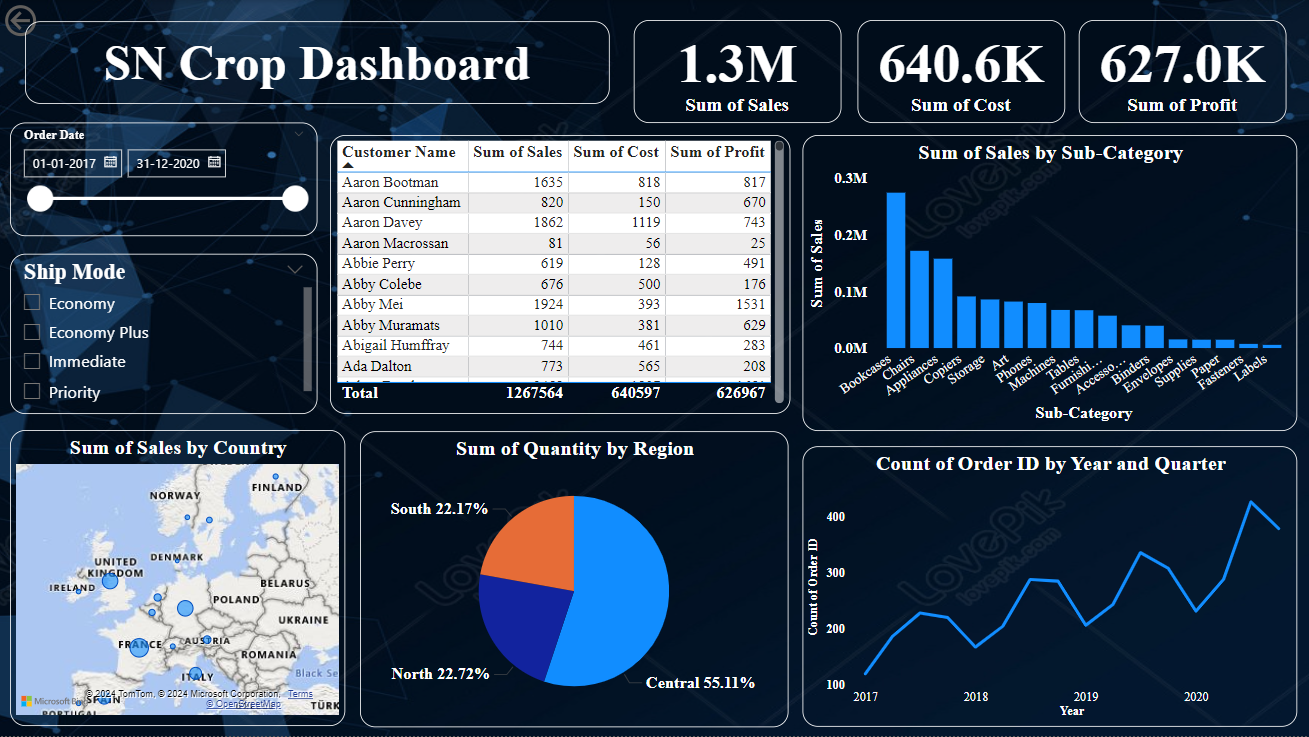

The page's visual inventory and layout, read from the dashboard file:
{"tool":"powerbi","page":{"name":"Page 1","canvas":[1280,720],"ordinal":0},"visuals":[{"type":"card","fields":{"Values":["List of Orders.Sales"]},"box":[619.6,19.9,203,100.8],"z":0},{"type":"card","fields":{"Values":["List of Orders.Cost"]},"box":[838.5,19.9,203,100.8],"z":1000},{"type":"card","fields":{"Values":["List of Orders.Profit"]},"box":[1054.7,19.9,203,100.8],"z":2000},{"type":"tableEx","fields":{"Values":["List of Orders.Customer Name","List of Orders.Sales","List of Orders.Cost","List of Orders.Profit"]},"box":[322.8,132.1,450,272.7],"z":3000},{"type":"actionButton","box":[0,0,47.7,40.4],"z":4000},{"type":"clusteredColumnChart","title":"Sum of Sales by Sub-Category","fields":{"Category":["List of Orders.Sub-Category"],"Y":["List of Orders.Sales"]},"box":[785.1,132.1,484.2,289.8],"z":5000},{"type":"lineChart","fields":{"Category":["List of Orders.Order Date.Variation.Date Hierarchy.Year","List of Orders.Order Date.Variation.Date Hierarchy.Quarter"],"Y":["List of Orders.Order ID"]},"box":[785.4,436.5,484.2,274.6],"z":6000},{"type":"pieChart","fields":{"Y":["List of Orders.Quantity"],"Category":["List of Orders.Region"]},"box":[352.2,421.9,419.4,289.8],"z":7000},{"type":"map","fields":{"Category":["List of Orders.Country"],"Size":["List of Orders.Sales"]},"box":[9.8,420.7,327.7,289.8],"z":8000},{"type":"textbox","box":[24.5,20.8,572.3,80.7],"z":9000},{"type":"slicer","fields":{"Values":["List of Orders.Ship Mode"]},"box":[9.8,248.2,300.8,156.5],"z":10000},{"type":"slicer","fields":{"Values":["List of Orders.Order Date"]},"box":[9.8,119.8,300.8,111.3],"z":11000}]}

Visuals, with their boxes in screenshot pixels (x1, y1, x2, y2), scaled from the page's 1280x720 canvas onto the 1309x737 screenshot:
card - List of Orders.Sales: 634 20 841 124
card - List of Orders.Cost: 857 20 1065 124
card - List of Orders.Profit: 1079 20 1286 124
tableEx - List of Orders.Customer Name x List of Orders.Sales: 330 135 790 414
actionButton: 0 0 49 41
"Sum of Sales by Sub-Category" clusteredColumnChart: 803 135 1298 432
lineChart - List of Orders.Order Date.Variation.Date Hierarchy.Year x List of Orders.Order Date.Variation.Date Hierarchy.Quarter: 803 447 1298 728
pieChart - List of Orders.Quantity x List of Orders.Region: 360 432 789 729
map - List of Orders.Country x List of Orders.Sales: 10 431 345 727
textbox: 25 21 610 104
slicer - List of Orders.Ship Mode: 10 254 318 414
slicer - List of Orders.Order Date: 10 123 318 237
